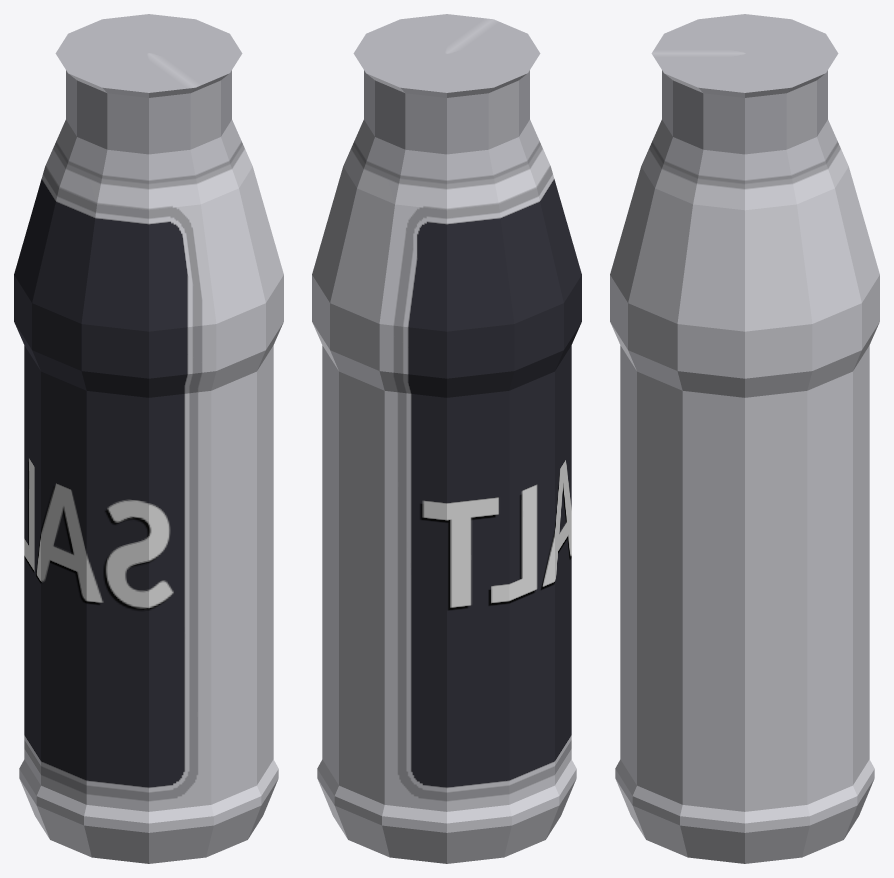
The model's file is grinder_salt.obj.
The picture shows the model from 3 angles, left to right: view 1: azimuth 30°, elevation 25°; view 2: azimuth 150°, elevation 25°; view 3: azimuth 270°, elevation 25°; orthographic projection.
Visible parts, largest first — view 1: grinder_salt; view 2: grinder_salt; view 3: grinder_salt.
Boxes of the visible parts, box(x1,y1,x2,y2) form: grinder_salt: box(14, 14, 283, 863); grinder_salt: box(312, 14, 581, 863); grinder_salt: box(610, 14, 879, 863).
Bounding box in the file's own units: 0.052 × 0.162 × 0.052.
1 material, 1 textured.
